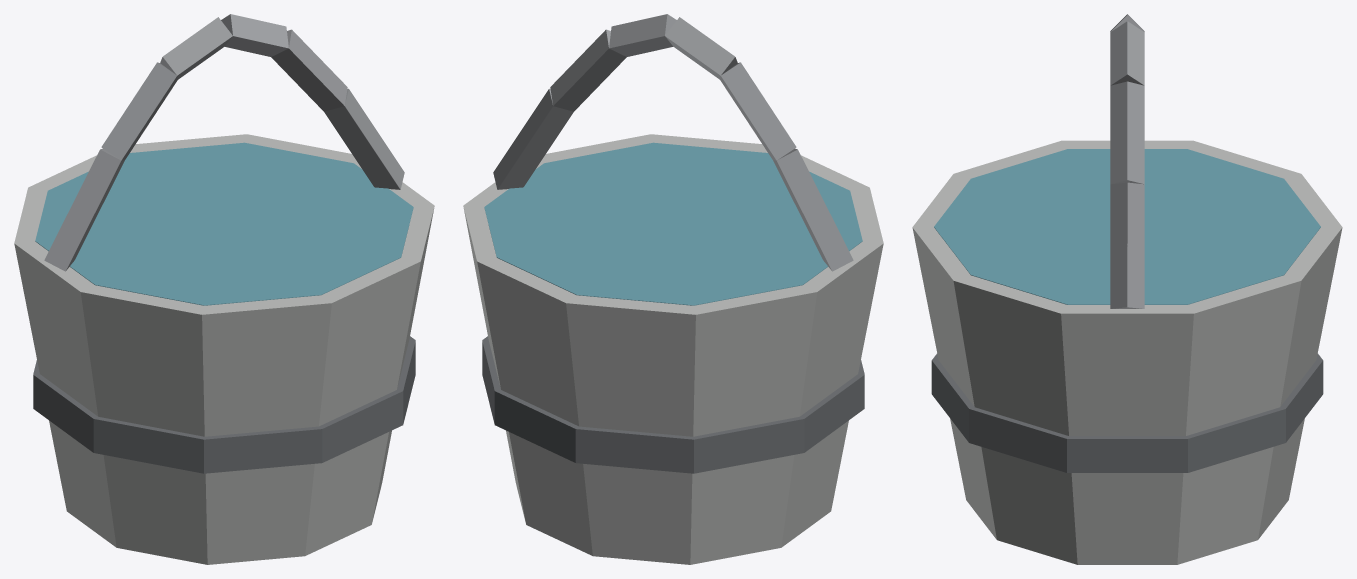
File: water_bucket.glb
The picture shows the model from 3 angles, left to right: view 1: azimuth 30°, elevation 25°; view 2: azimuth 150°, elevation 25°; view 3: azimuth 270°, elevation 25°; orthographic projection.
Visible parts, largest first — view 1: water_bucket; view 2: water_bucket; view 3: water_bucket.
Boxes of the visible parts, bbox=[...] form: water_bucket: bbox=[14, 14, 434, 564]; water_bucket: bbox=[463, 14, 883, 564]; water_bucket: bbox=[912, 14, 1342, 564].
Bounding box in the file's own units: 0.3874 × 0.4946 × 0.4.
